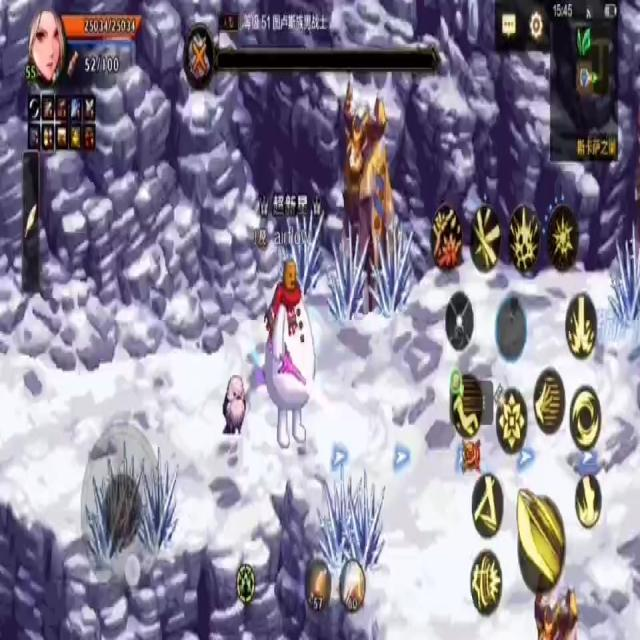player: (264, 248, 316, 450)
